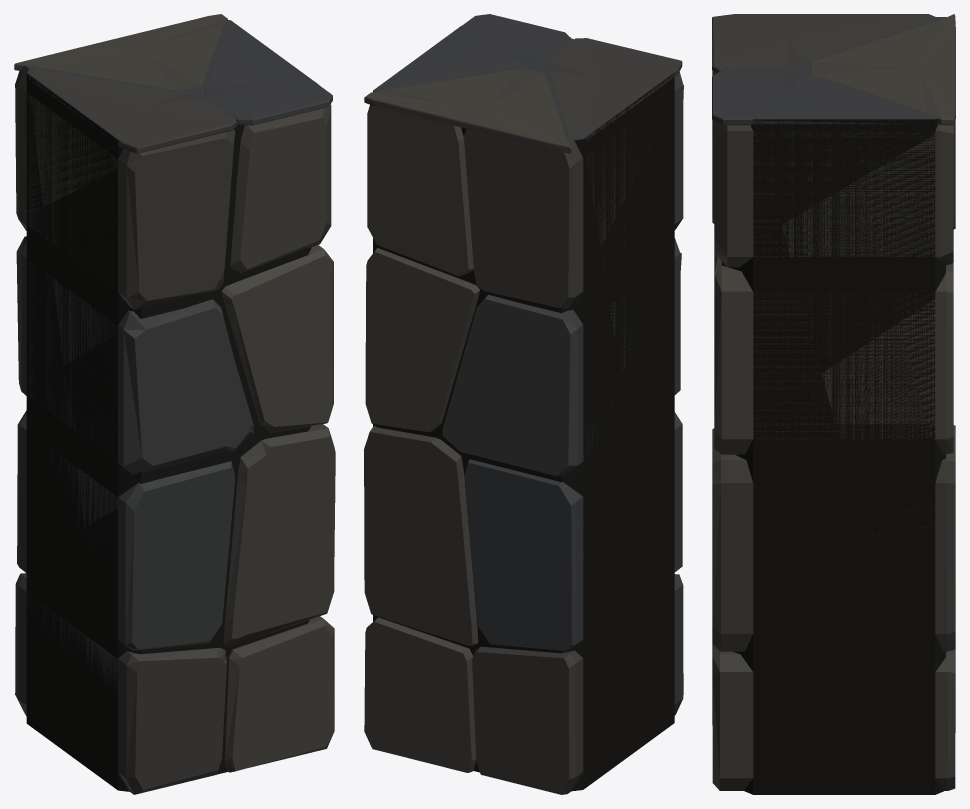
Rendered from Wall_1m_A.fbx.
The picture shows the model from 3 angles, left to right: view 1: azimuth 30°, elevation 25°; view 2: azimuth 150°, elevation 25°; view 3: azimuth 270°, elevation 25°; orthographic projection. The views are drawn at different scales.
Parts seen in each view (by area): view 1: Wall_1m_A; view 2: Wall_1m_A; view 3: Wall_1m_A.
Boxes of the visible parts, x1,y1,x2,y2 form: Wall_1m_A: (14,14,335,794); Wall_1m_A: (364,14,683,794); Wall_1m_A: (712,14,955,794).
Bounding box in the file's own units: 1 × 3 × 0.98.
Materials: 1 (1 with a texture image).
